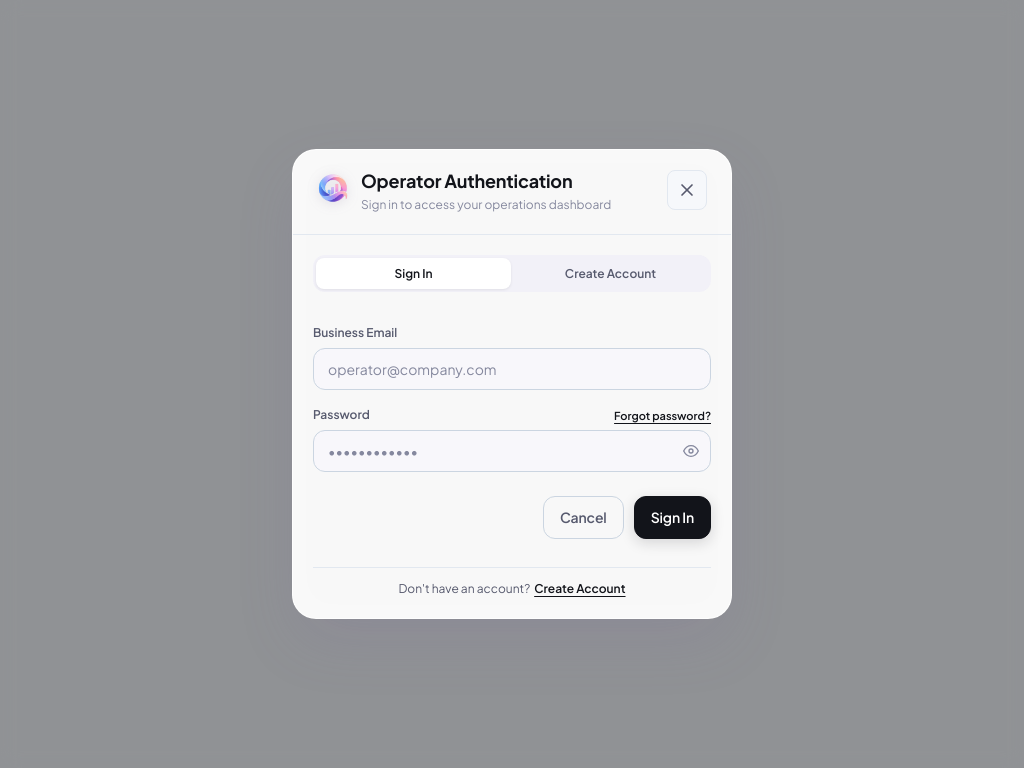
Test: Public User Registration & Business Onboarding Suite › 1. Public Registration Form UI & Client-Side Validation › renders Sign In and switches to Create Account view
This screenshot has width=1024, height=768.
Expected: the button "Sign In" is shown, [634,496,711,539]
Switch to signup via tab
Click the tab "Create Account": (610, 273) [513,258,708,289]
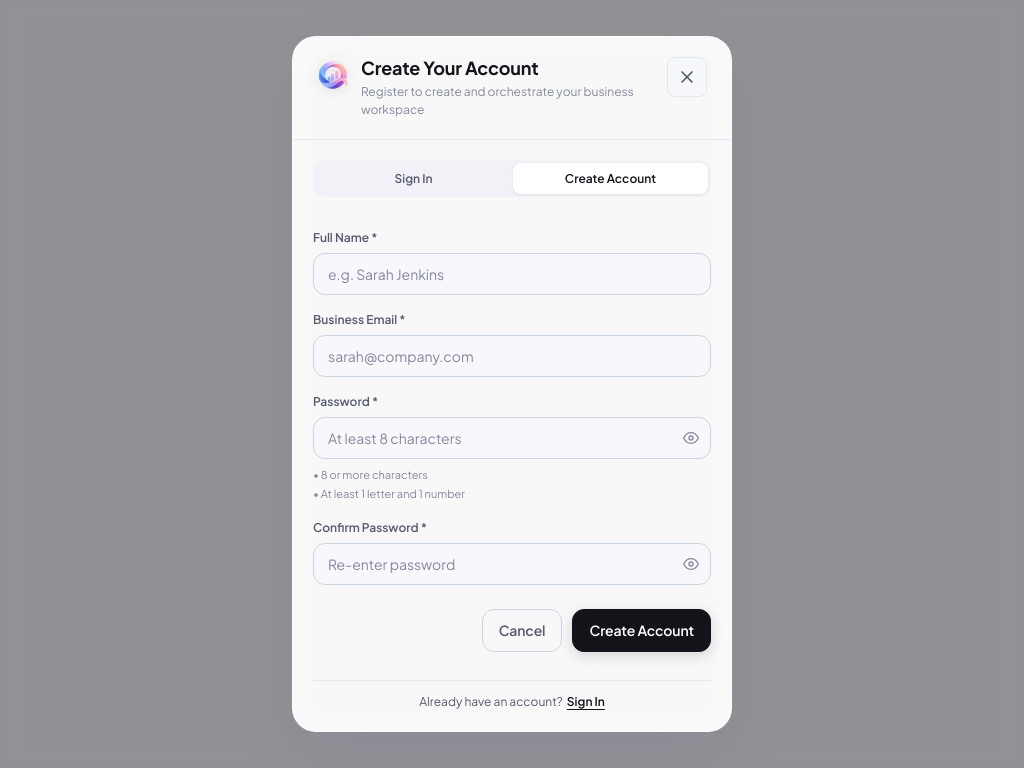
Now the field labelled "Full Name *" is shown, box [313,253,711,295]
Now the field labelled "Business Email *" is shown, box [313,335,711,377]
Now the password field labelled "Password *" is shown, box [313,417,711,459]
